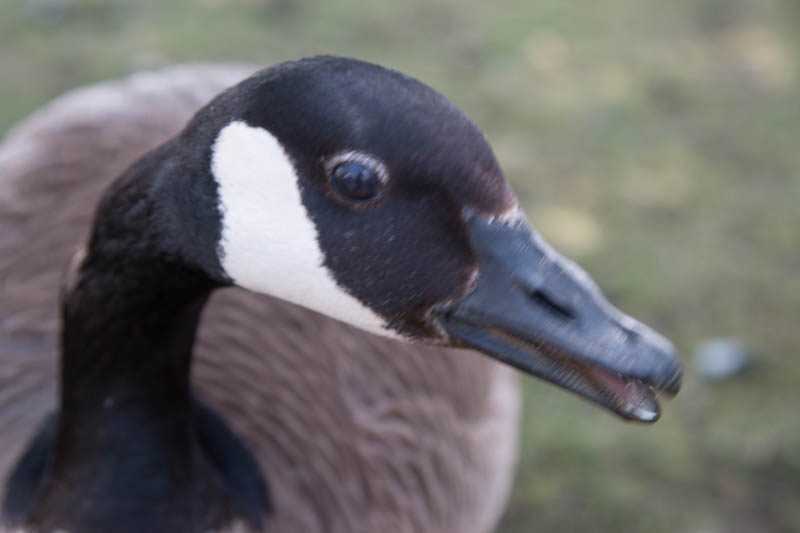goose-head: (150, 53, 685, 424)
